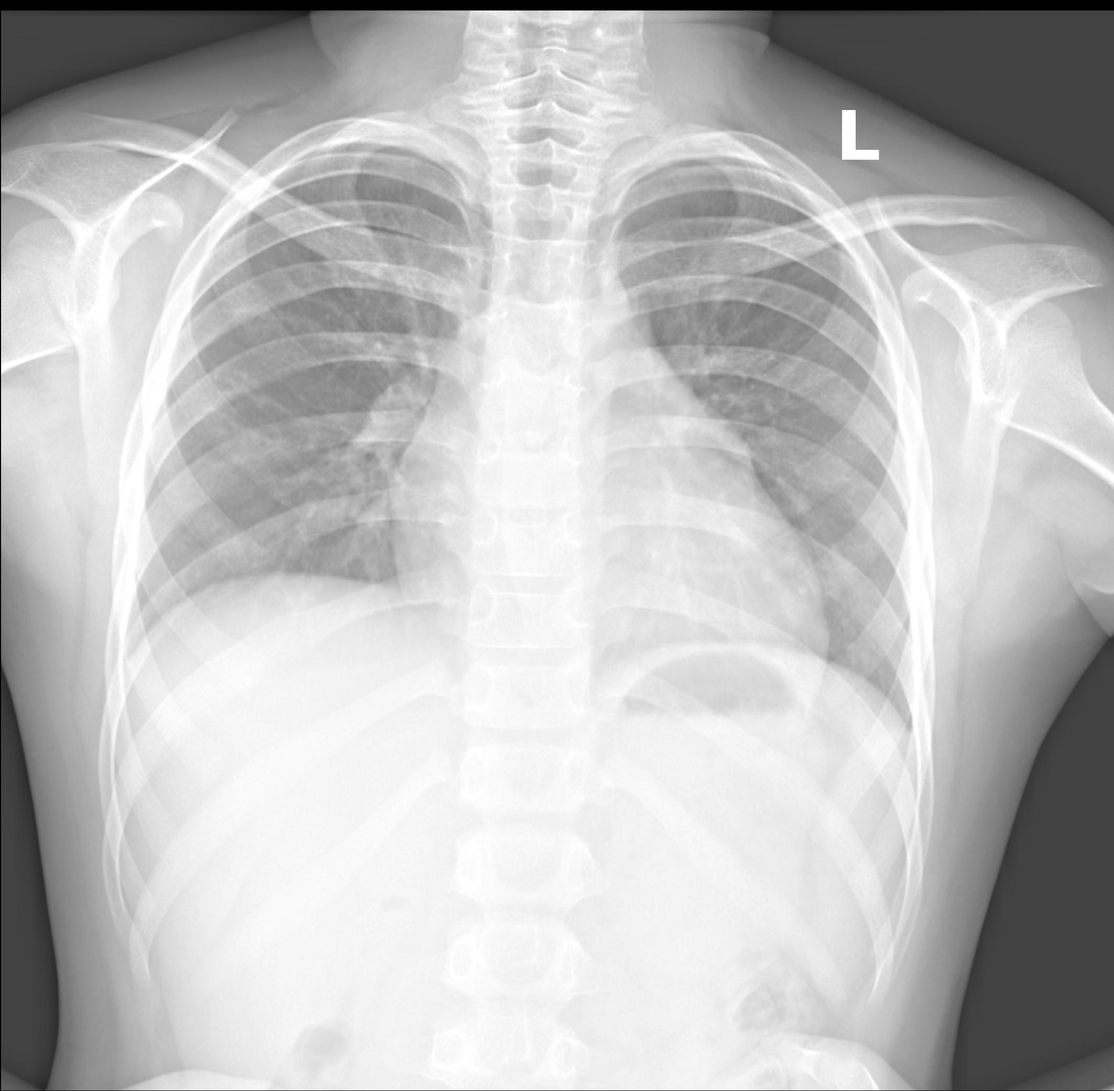Cardiomegaly: (386, 479, 833, 711)
